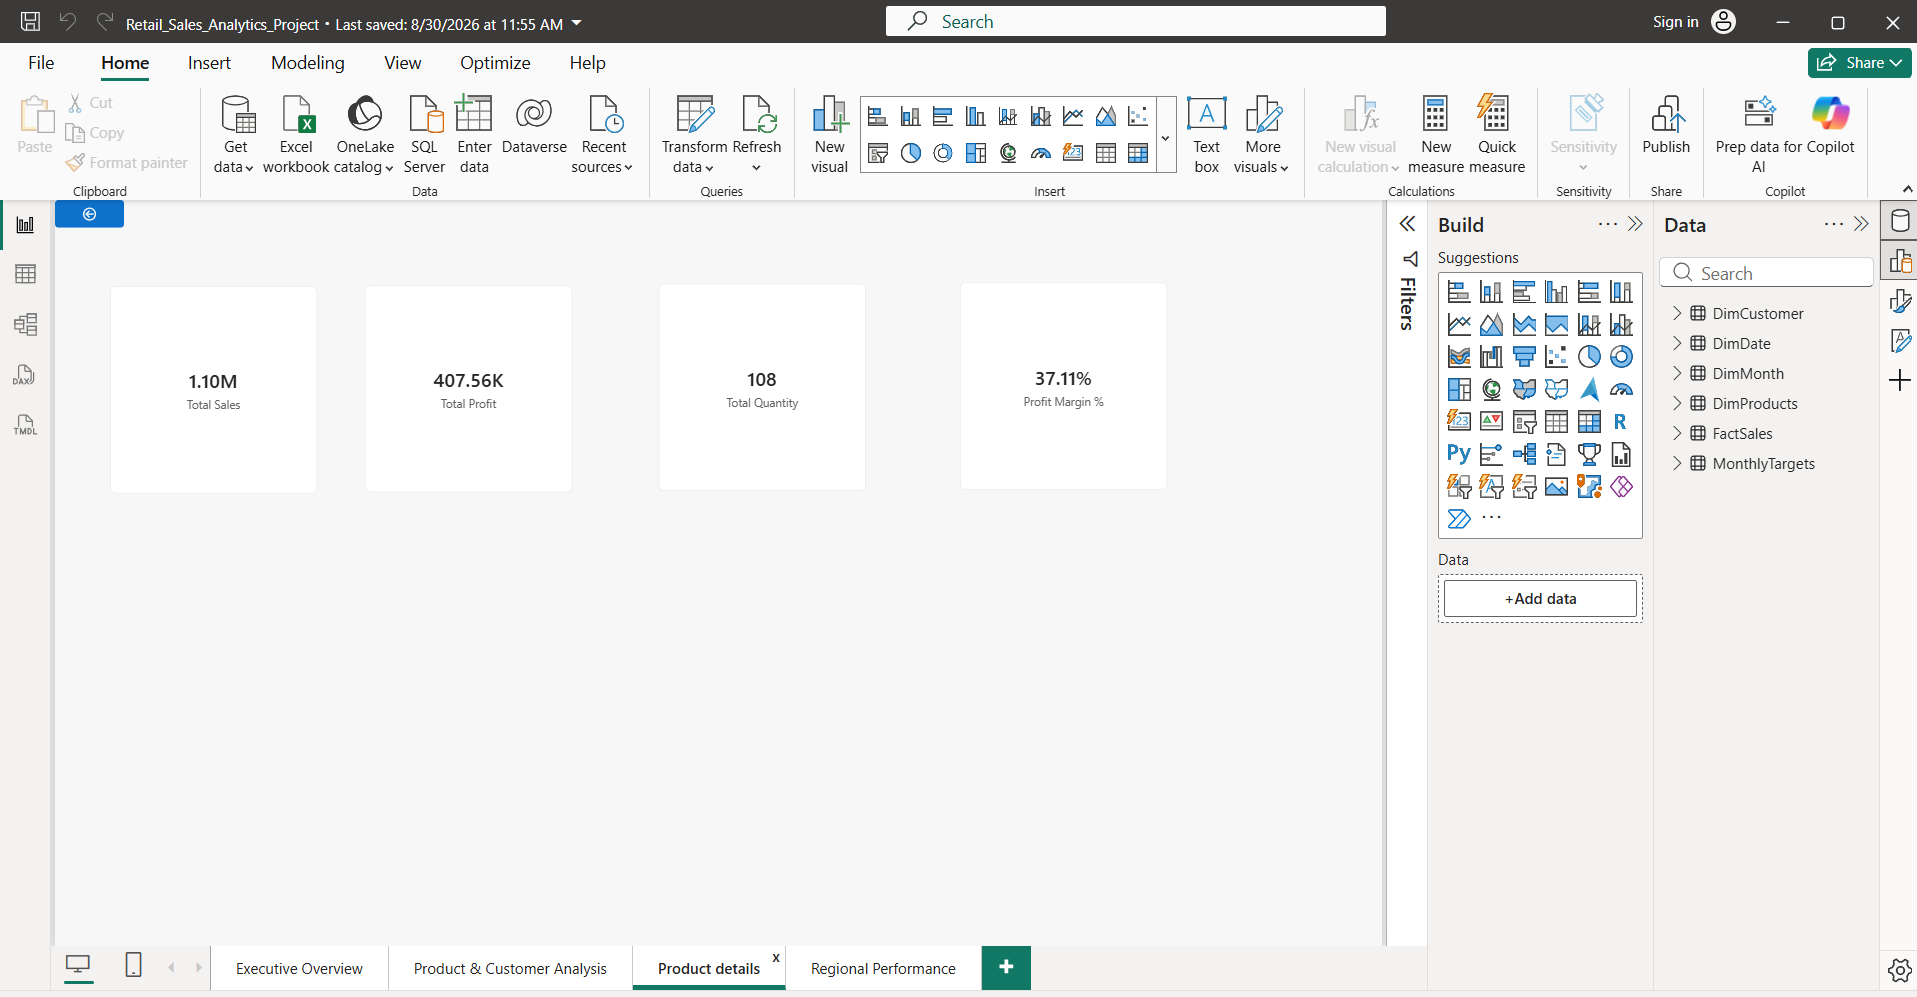

The page's visual inventory and layout, read from the dashboard file:
{"tool":"powerbi","page":{"name":"Product details","canvas":[1920,1080],"ordinal":2},"visuals":[{"type":"actionButton","box":[0,0,100,40],"z":0},{"type":"card","fields":{"Values":["FactSales.Total Sales"]},"box":[80.1,125.5,300,300],"z":1},{"type":"card","fields":{"Values":["FactSales.Total Profit"]},"box":[448,123.4,300,300],"z":2},{"type":"card","fields":{"Values":["FactSales.Total Quantity"]},"box":[874.3,121.2,300,300],"z":3},{"type":"card","fields":{"Values":["FactSales.Profit Margin %"]},"box":[1309.3,119,300,300],"z":4}]}

Visuals, with their boxes on the page's 1920x1080 design canvas (x1, y1, x2, y2). These are canvas units, not pixel positions in the 1917x997 screenshot, which may show the page scaled, cropped or inside an application window:
actionButton: region(0, 0, 100, 40)
card - FactSales.Total Sales: region(80, 126, 380, 426)
card - FactSales.Total Profit: region(448, 123, 748, 423)
card - FactSales.Total Quantity: region(874, 121, 1174, 421)
card - FactSales.Profit Margin %: region(1309, 119, 1609, 419)
